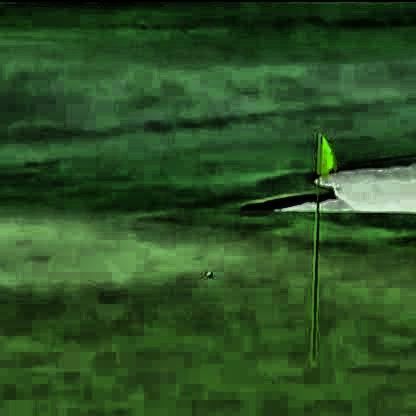golfball: (202, 269, 212, 276)
